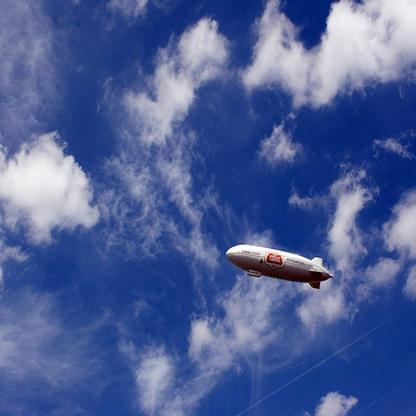Airship: (224, 240, 335, 299)
